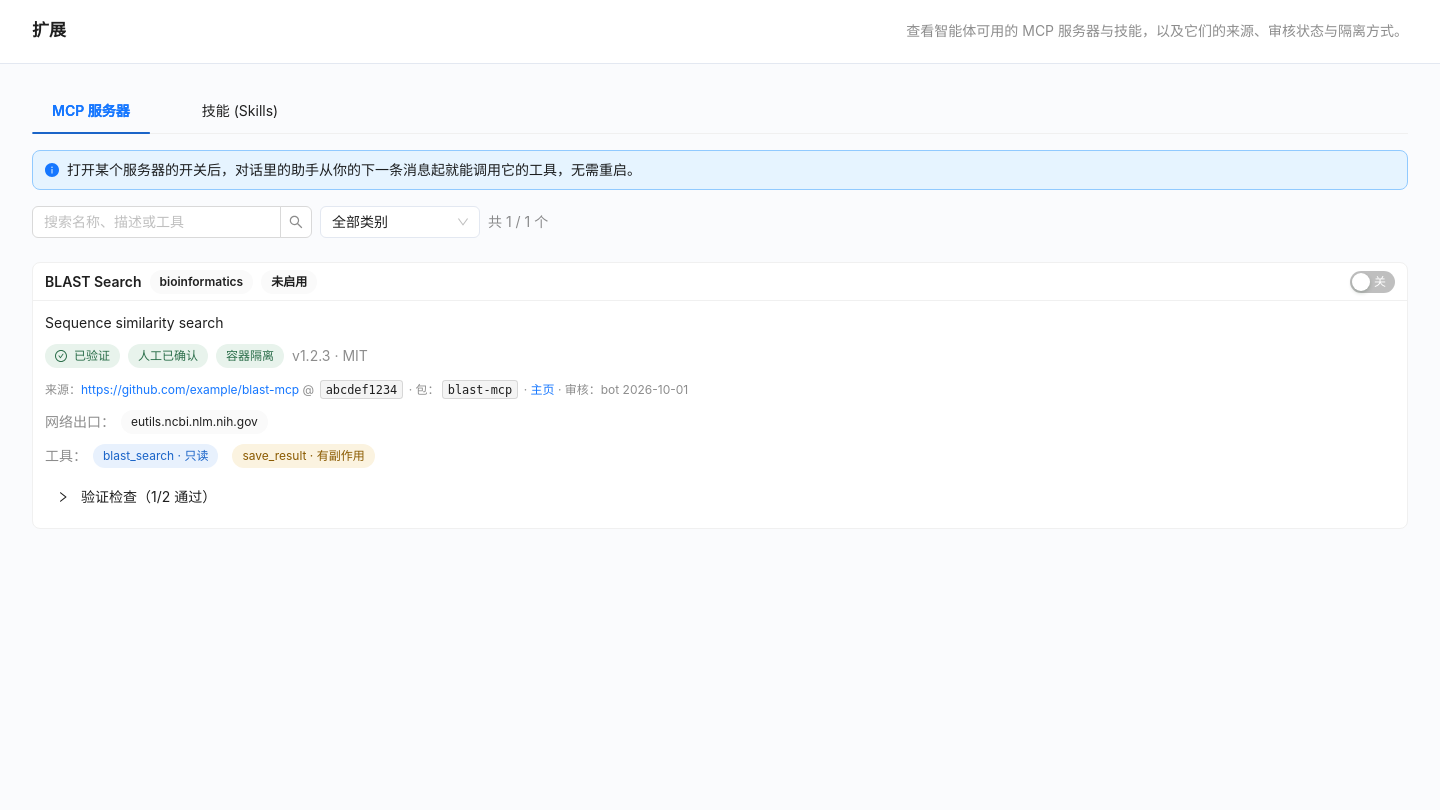
Test case: Extensions page - MCP tab › expands verification checks with pass/fail details
Step 1. Click the button "验证检查（1/2 通过）" → (137, 497), box top-left (57, 488), bottom-right (216, 505)
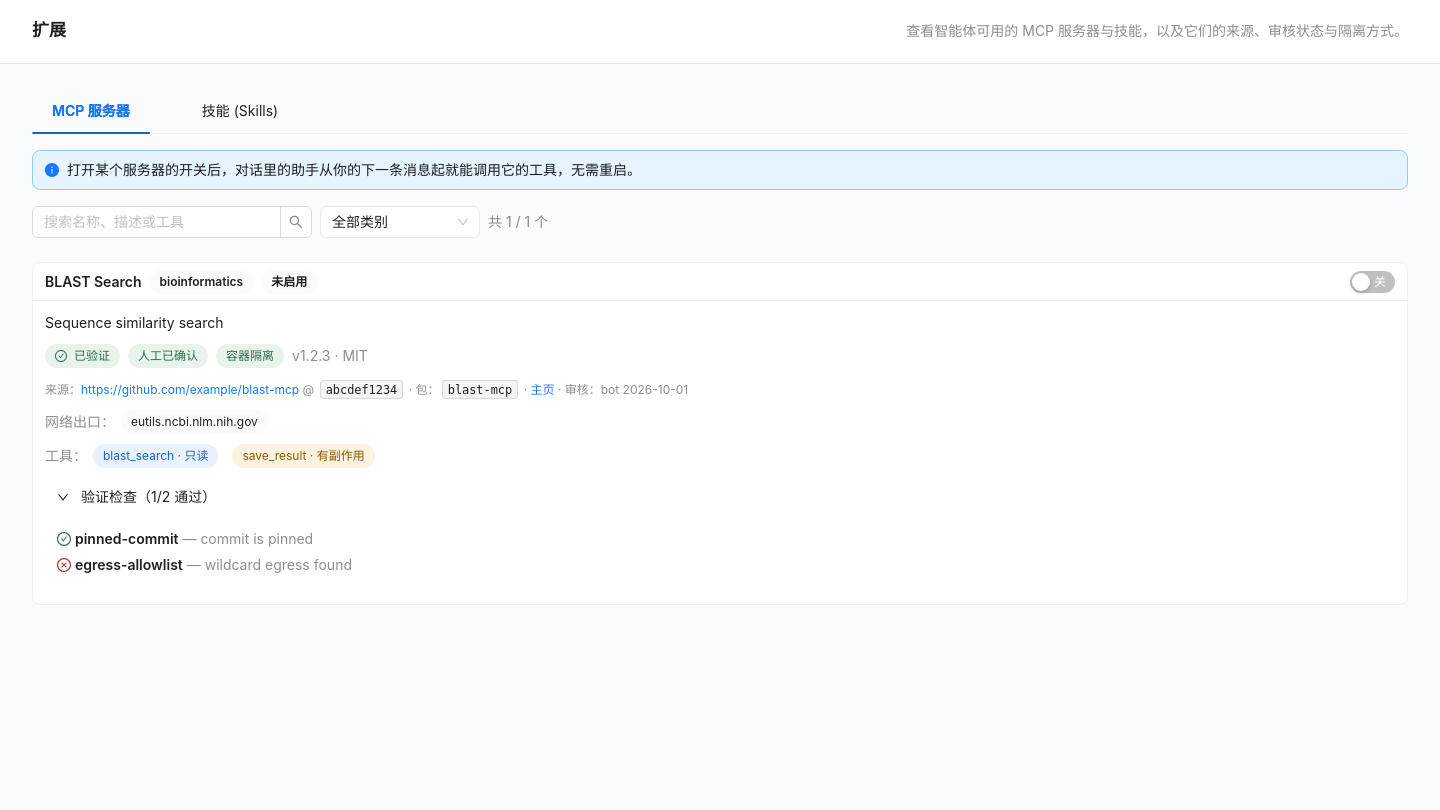
Result: the text "— commit is pinned" is shown at top-left (178, 530), bottom-right (313, 547)
Result: the text "— wildcard egress found" is shown at top-left (183, 556), bottom-right (352, 573)
Result: the picture named "通过" is shown at top-left (57, 532), bottom-right (71, 546)
